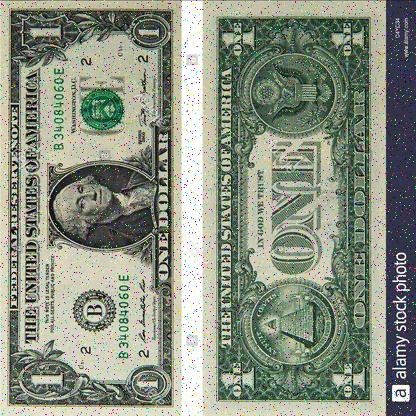one-back: (194, 1, 394, 416)
one-front: (1, 1, 185, 412)
